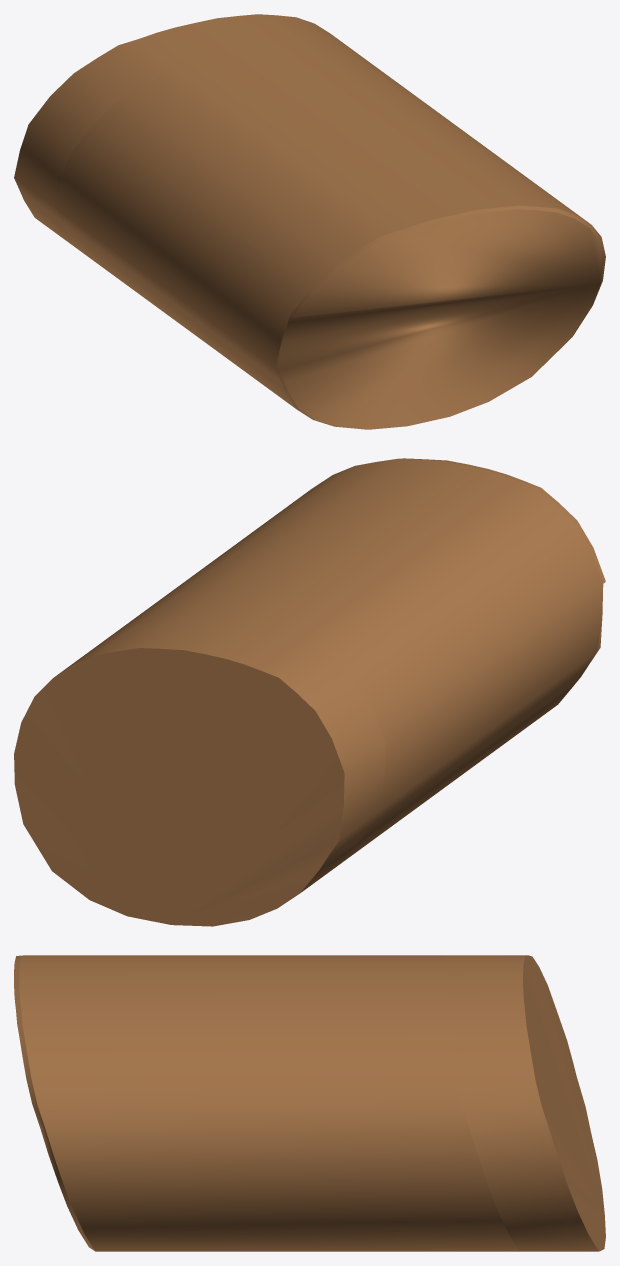
Rendered from LeftHandForearm.fbx.
3 renders of one model, top to bottom at view 1: azimuth 30°, elevation 25°; view 2: azimuth 150°, elevation 25°; view 3: azimuth 270°, elevation 25°, orthographic. The views are drawn at different scales.
Visible parts, largest first — view 1: GloveForearm; view 2: GloveForearm; view 3: GloveForearm.
Part boxes in pixels (x1,y1,x2,y2): GloveForearm: [14, 14, 605, 429]; GloveForearm: [14, 458, 605, 926]; GloveForearm: [14, 955, 605, 1251].
Bounding box in the file's own units: 5.02 × 3.55 × 8.15.
